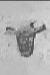F34: (5, 1, 46, 74)
